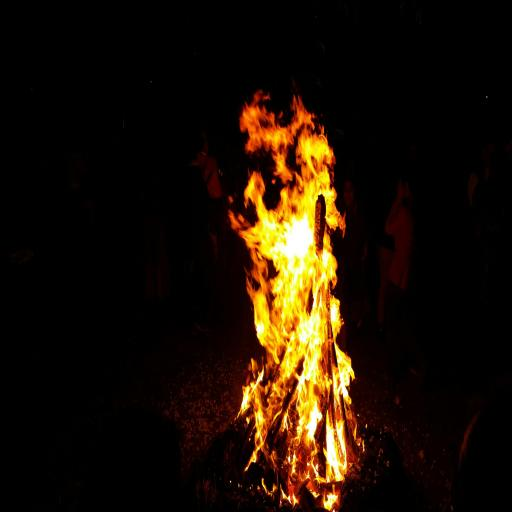campfire: (239, 77, 362, 512)
